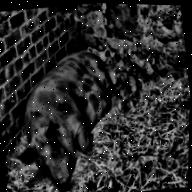boar: (1, 34, 179, 192)
